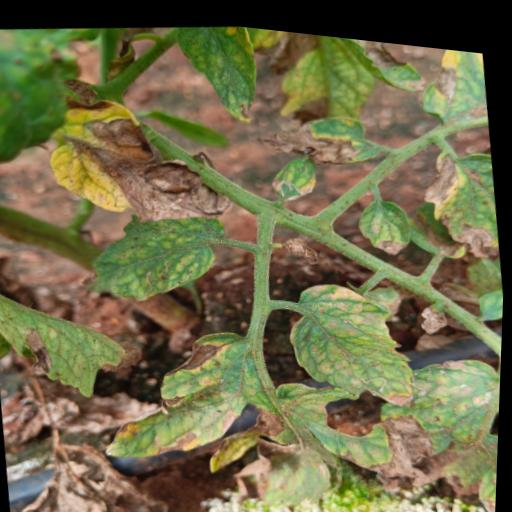Early Blight: (37, 73, 245, 237), (89, 311, 267, 474), (414, 127, 505, 257), (248, 95, 385, 172), (354, 181, 421, 255)
